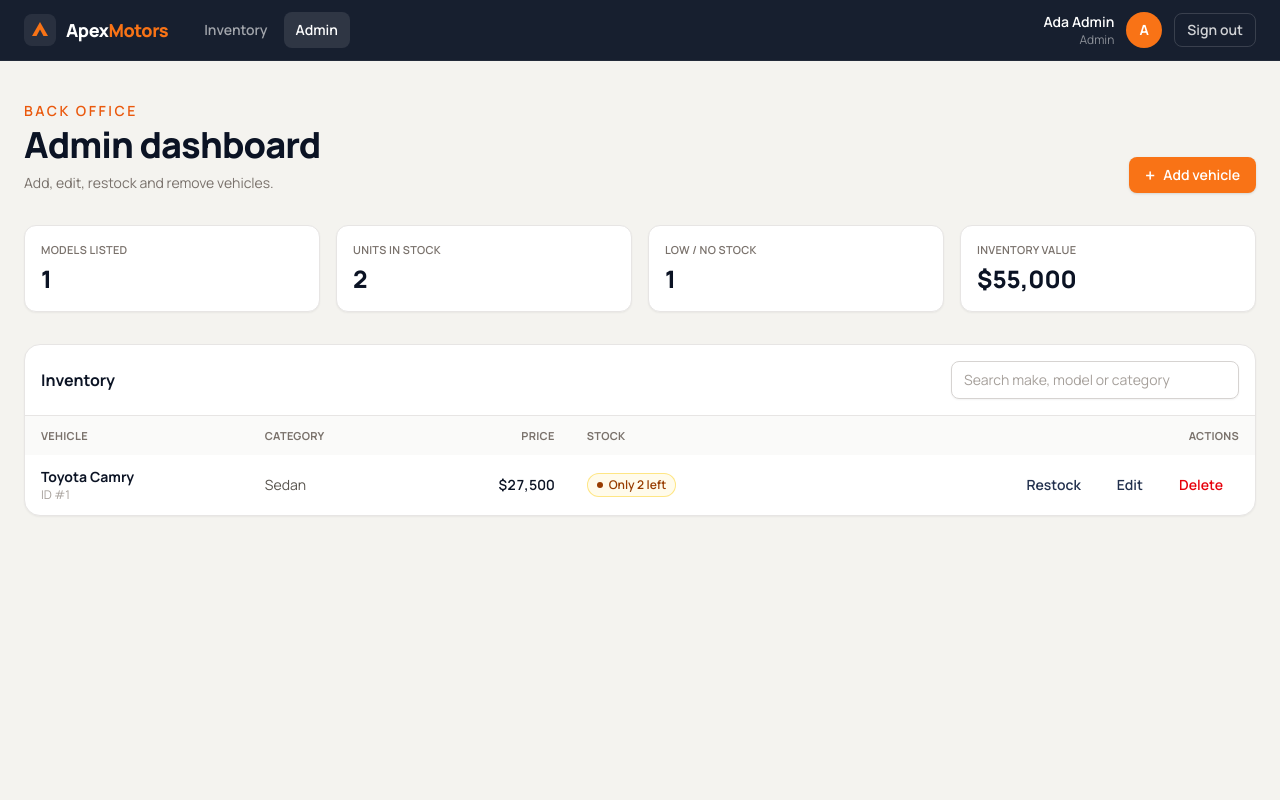
Test: Admin dashboard › deletes a vehicle after confirmation
Click the button with aria-label "Delete Toyota Camry" at (1201, 485), box [1163,467,1239,503]
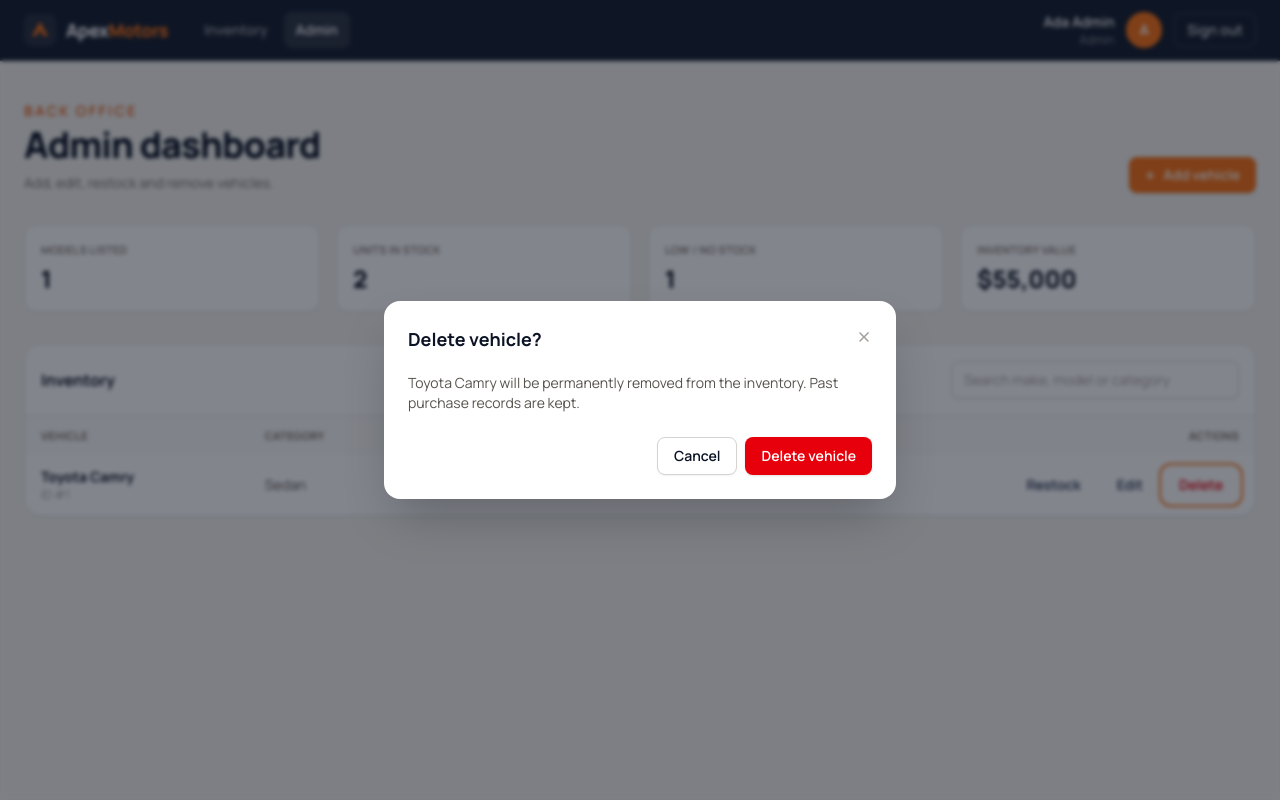
Click the button "Delete vehicle" at (809, 456), box [746,437,872,475]
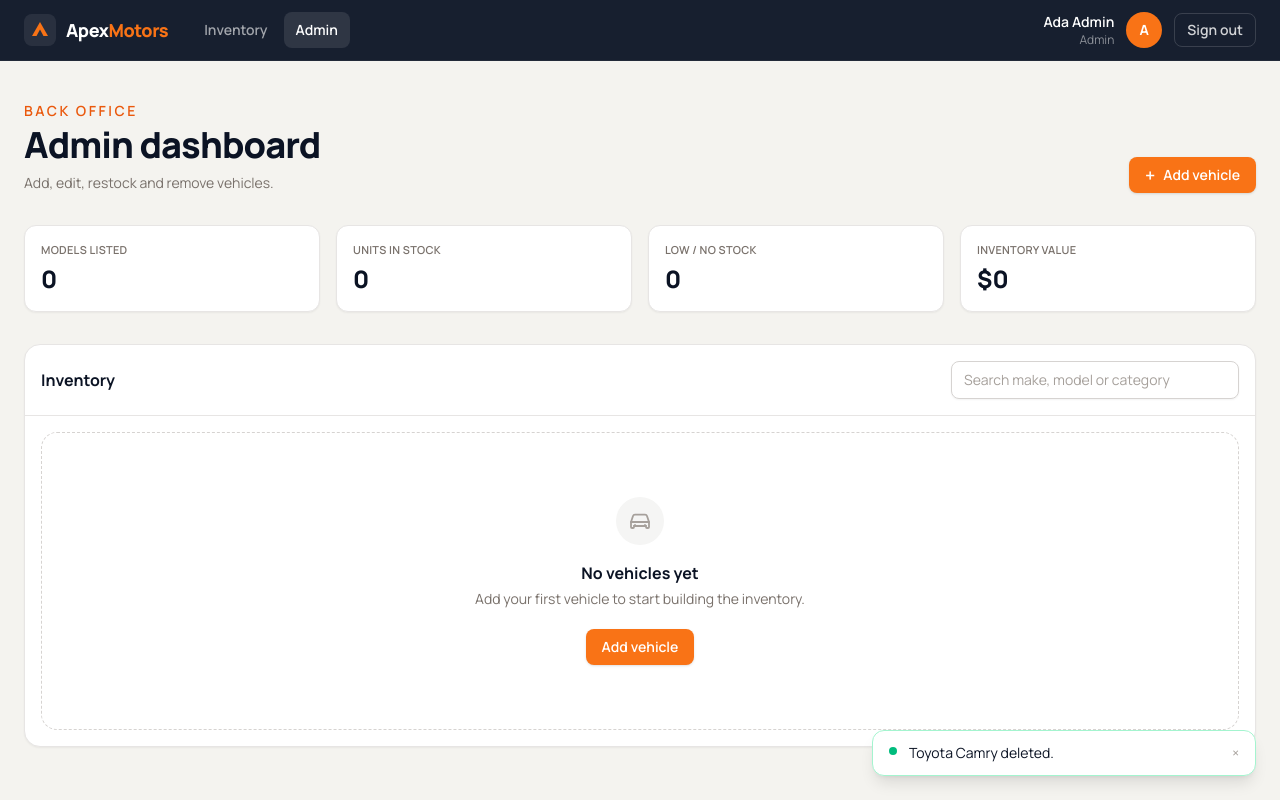
Expected: the text "Toyota Camry deleted." is shown, [909,743,1054,762]
Expected: the heading "No vehicles yet" is shown, [581,562,699,584]
